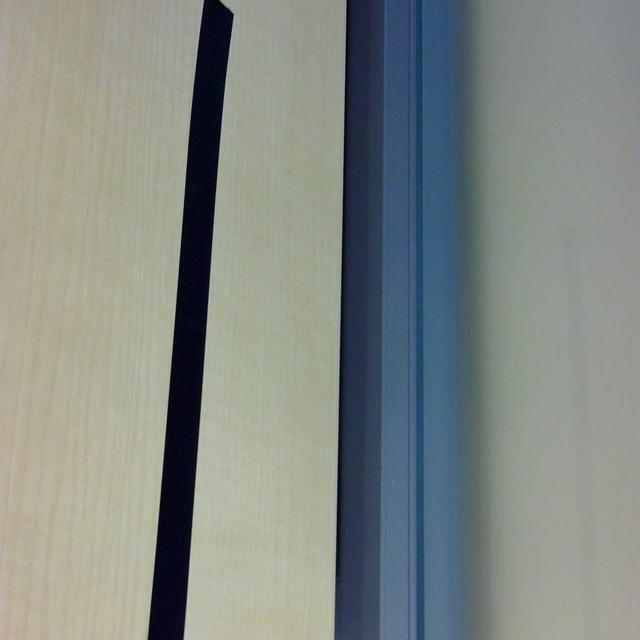tape: (146, 1, 234, 640)
